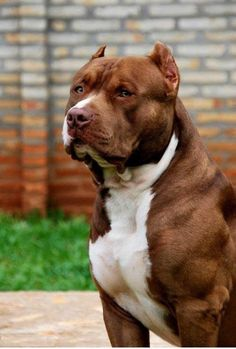Perro Pitbull: (55, 32, 236, 340)
